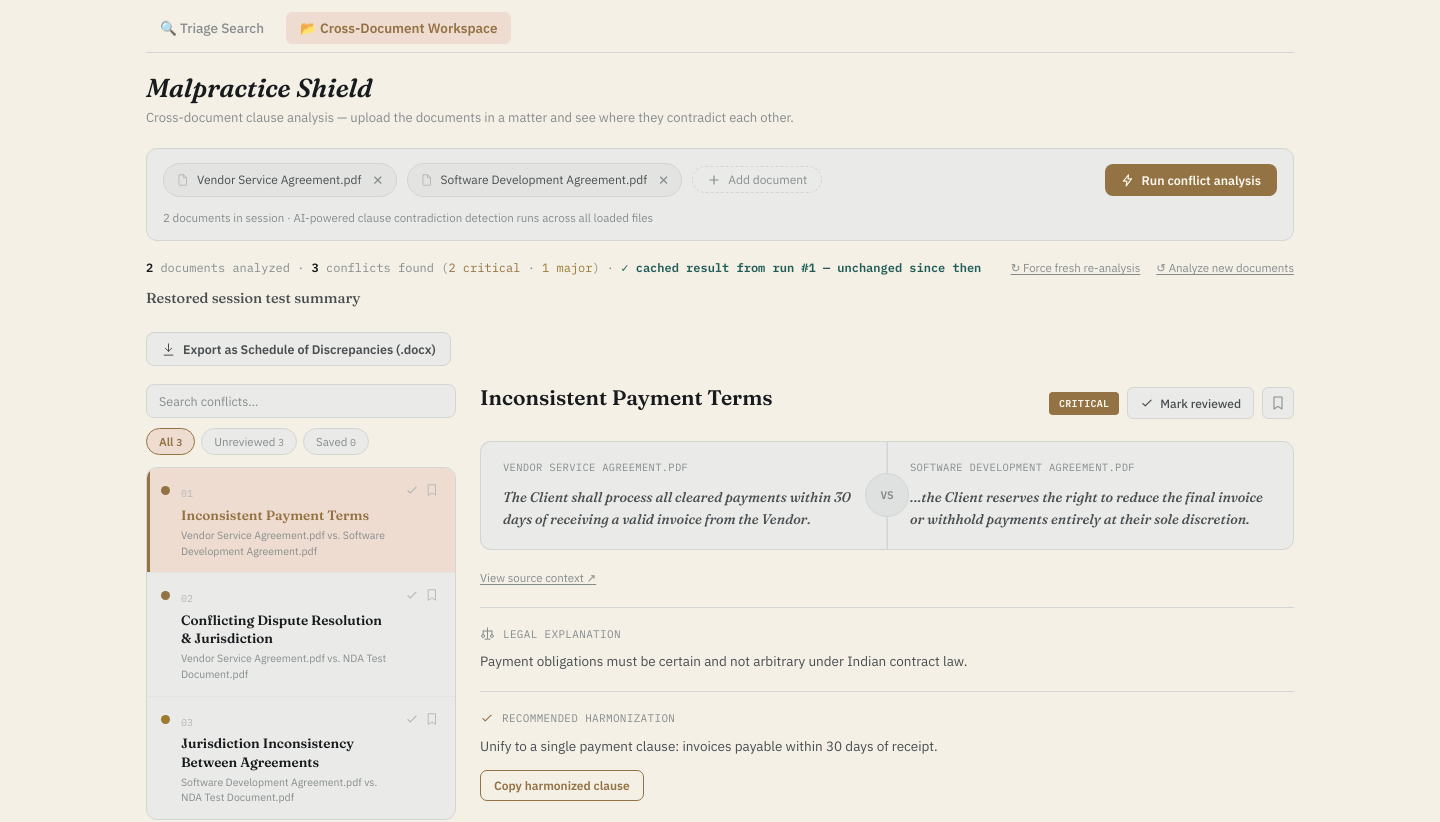
it: Conflict Engine (Malpractice Shield) › clears persisted session when Analyze new documents is clicked
Click the button "↺ Analyze new documents" at (1225, 268), box [1156,260,1294,275]
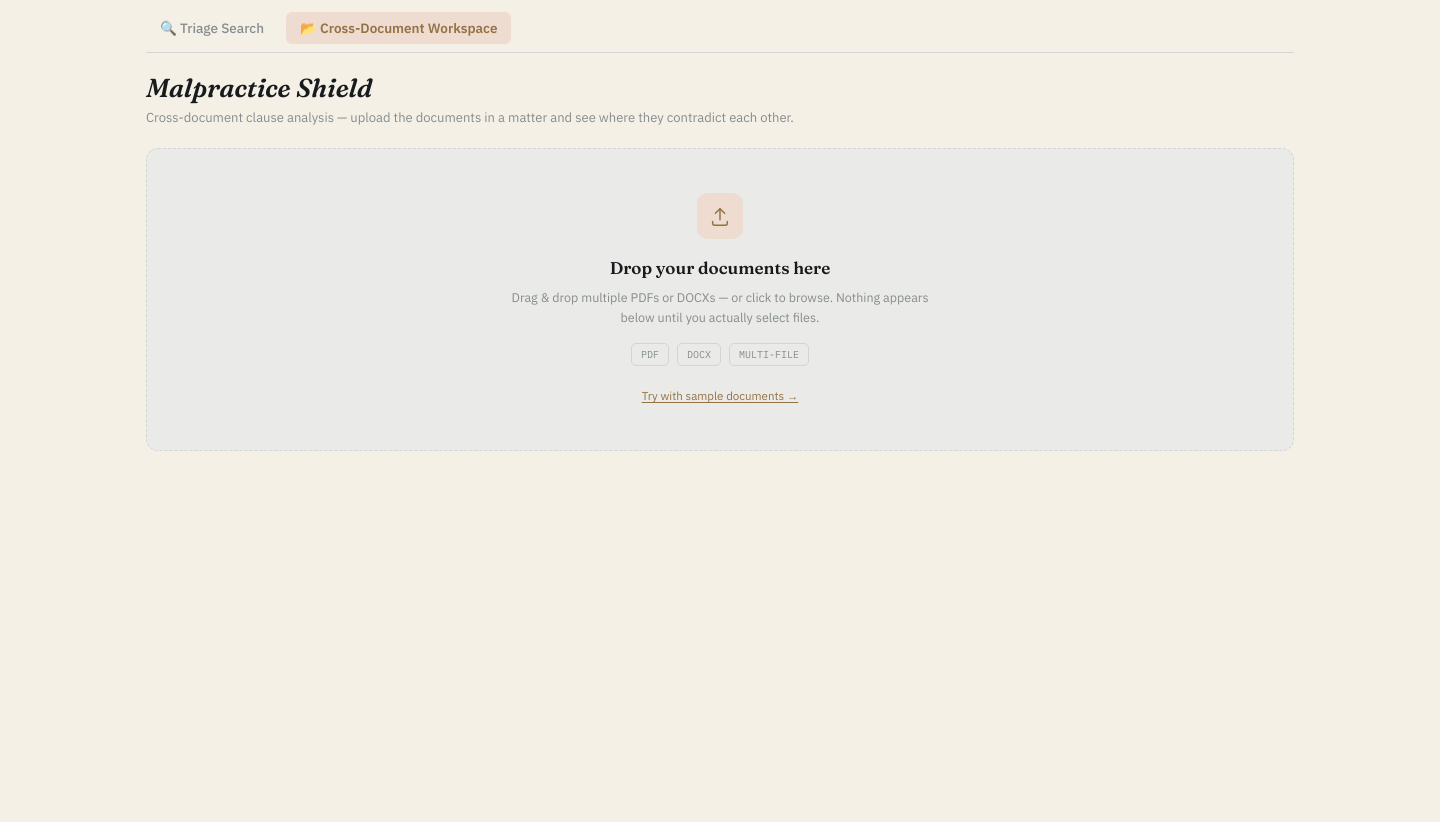
Now the text "Drop your documents here" is shown, box [610,257,830,278]
